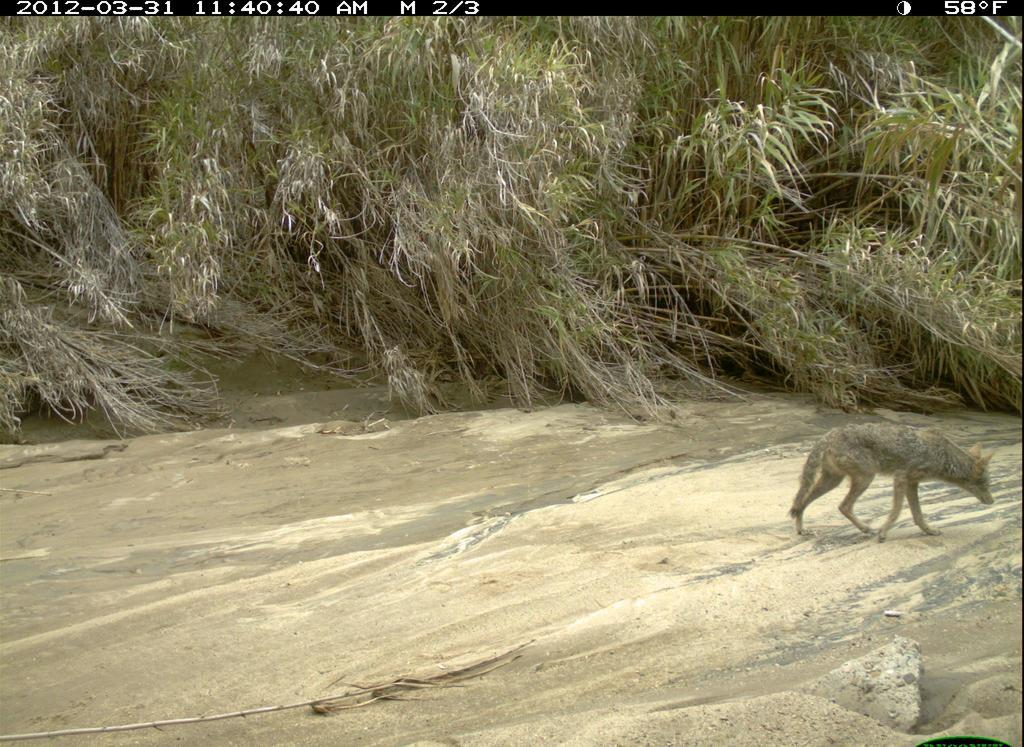coyote: (767, 413, 996, 555)
